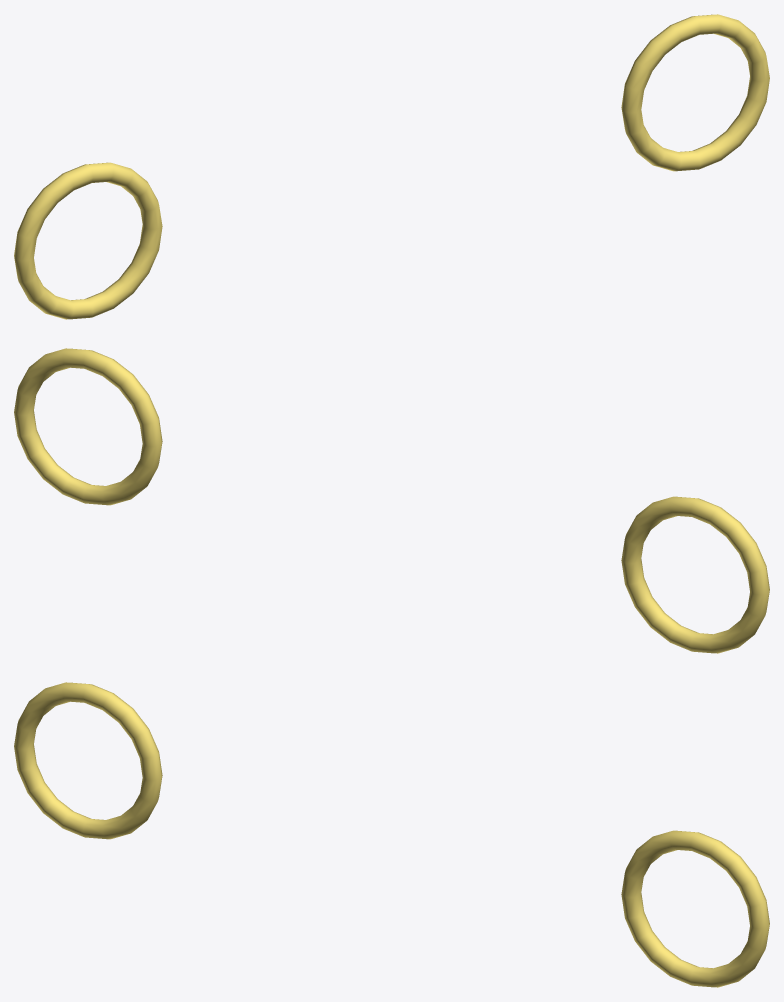
Rendered from earrings-hoops.glb.
3 renders of one model, top to bottom at view 1: azimuth 30°, elevation 25°; view 2: azimuth 150°, elevation 25°; view 3: azimuth 330°, elevation 25°, orthographic.
Parts seen in each view (by area): view 1: hoop_l, hoop_r; view 2: hoop_l, hoop_r; view 3: hoop_l, hoop_r.
Part boxes in pixels (<box>): hoop_l: <box>14,162,162,319</box>; hoop_r: <box>621,14,769,171</box>; hoop_l: <box>621,496,769,653</box>; hoop_r: <box>14,348,162,505</box>; hoop_l: <box>14,682,162,839</box>; hoop_r: <box>621,830,769,987</box>.
Size of the model in its own units: 0.211 by 0.041 by 0.005.
